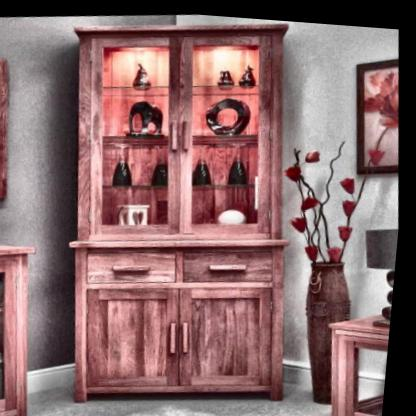Cupboard: (53, 7, 315, 405)
